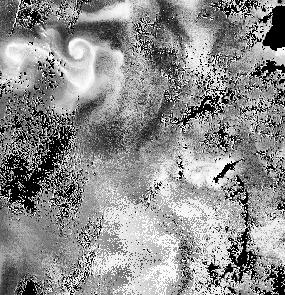CE: (67, 37, 94, 61)
